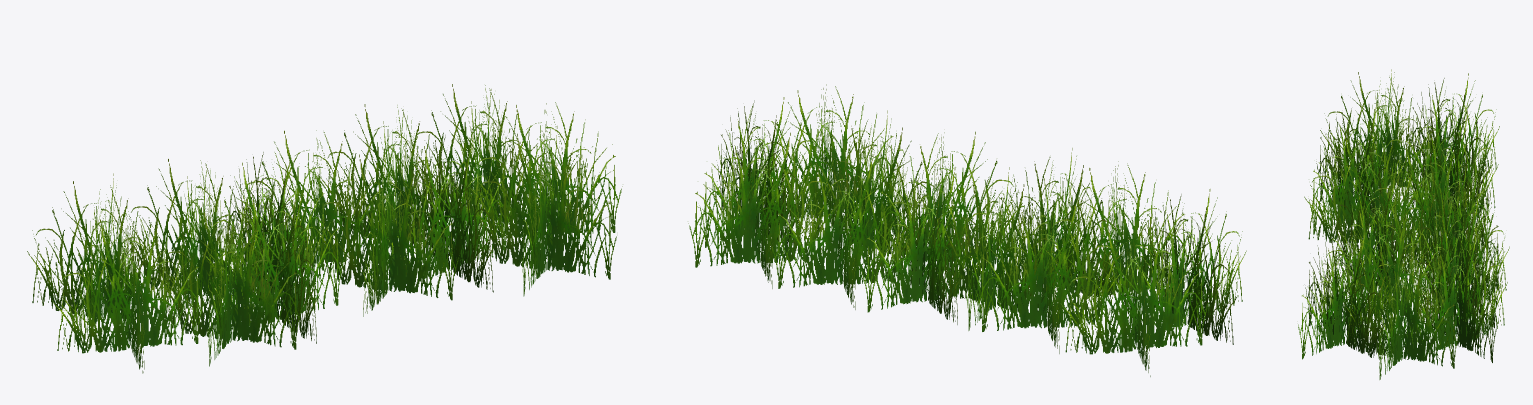
File: INST_HTOWN_WHEATPLANTA.fbx
The picture shows the model from 3 angles, left to right: view 1: azimuth 30°, elevation 25°; view 2: azimuth 150°, elevation 25°; view 3: azimuth 270°, elevation 25°; orthographic projection. The views are drawn at different scales.
Parts seen in each view (by area): view 1: INST_HTOWN_WHEATPLANTA; view 2: INST_HTOWN_WHEATPLANTA; view 3: INST_HTOWN_WHEATPLANTA.
Part boxes in pixels (box(x1,y1,x2,y2)): INST_HTOWN_WHEATPLANTA: box(27, 84, 622, 373); INST_HTOWN_WHEATPLANTA: box(688, 84, 1246, 376); INST_HTOWN_WHEATPLANTA: box(1298, 69, 1509, 379).
Bounding box in the file's own units: 34649 × 9782 × 14568.
1 material, 1 textured.
